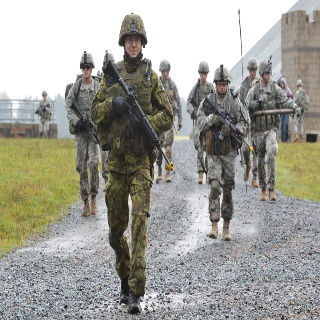rifle: (102, 59, 177, 171), (204, 94, 254, 152)
